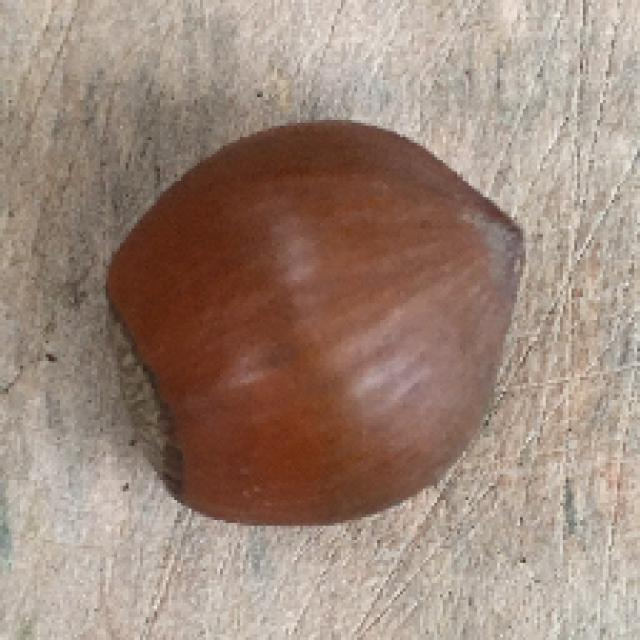qualityHazelnut: (82, 108, 537, 529)
